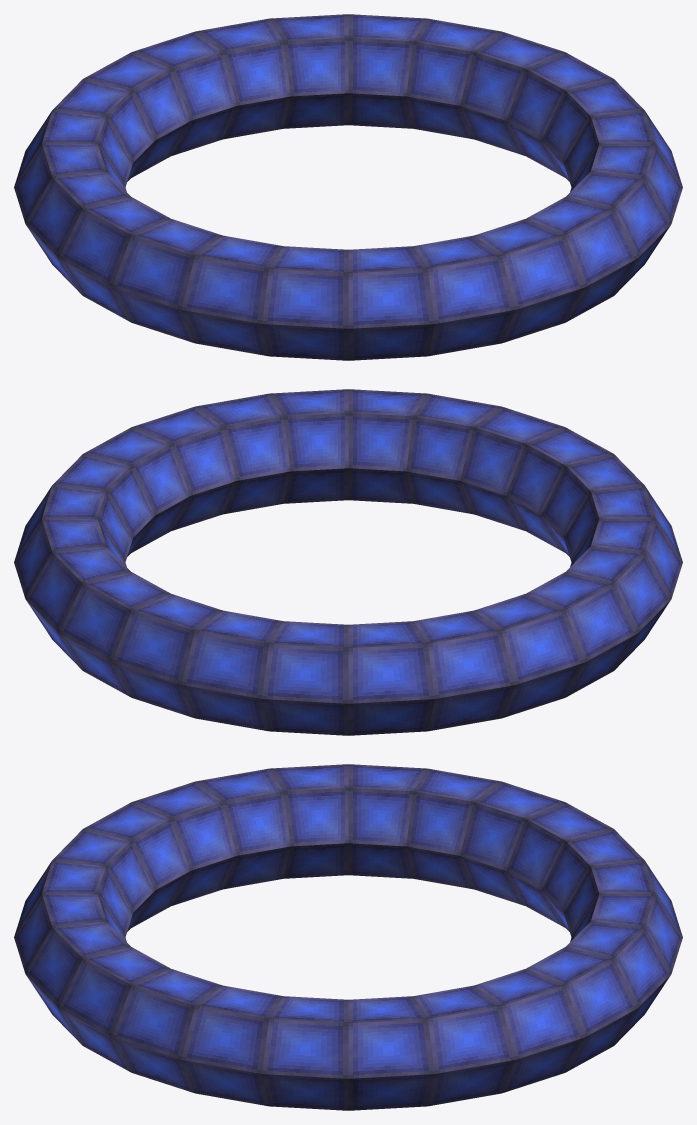
Rendered from compass.obj.
The picture shows the model from 3 angles, top to bottom: view 1: azimuth 30°, elevation 25°; view 2: azimuth 150°, elevation 25°; view 3: azimuth 270°, elevation 25°; orthographic projection.
Visible parts, largest first — view 1: Torus; view 2: Torus; view 3: Torus.
Part boxes in pixels (<box>): Torus: <box>14,14,682,360</box>; Torus: <box>14,389,682,735</box>; Torus: <box>14,764,682,1110</box>.
Size of the model in its own units: 4.8 by 0.6928 by 4.8.
